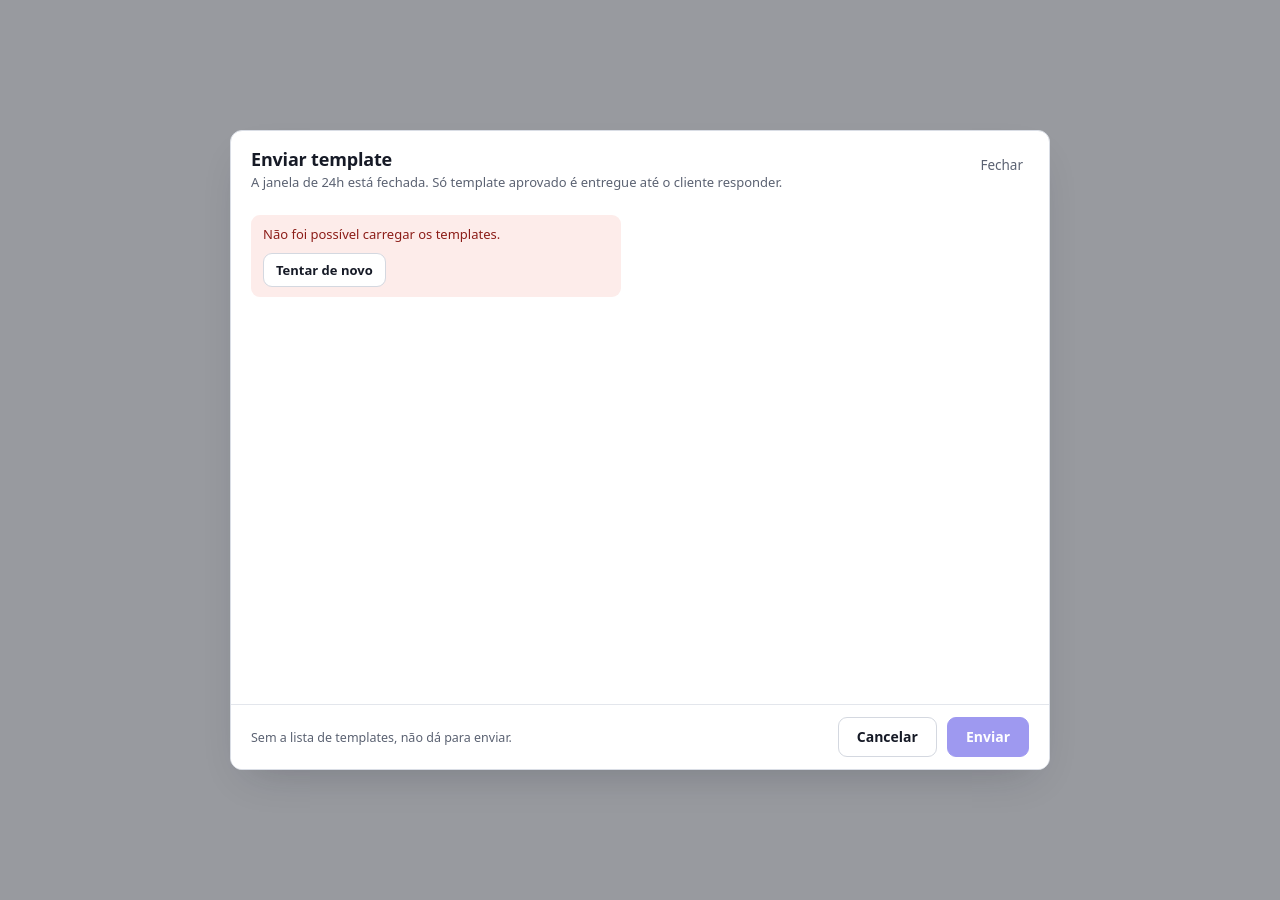
Test: SendTemplateModal › falha ao carregar os templates oferece "Tentar de novo" (A5-6)
This screenshot has width=1280, height=900.
Click the button "Tentar de novo". click: point(324, 270)
box: [263,253,386,287]
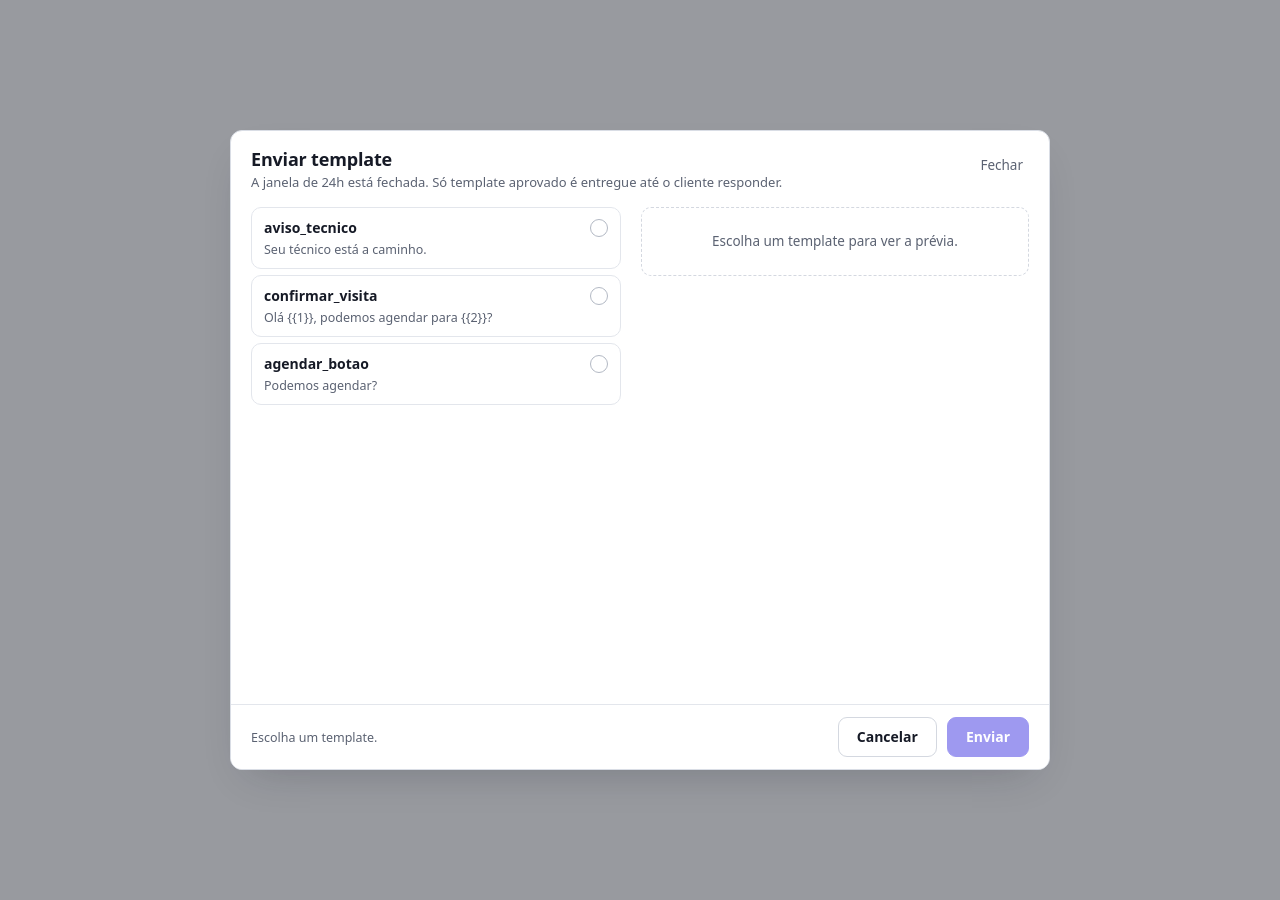
Expected: the radio button labelled "aviso_tecnico Seu técnico está a caminho." is shown, [251,207,621,269]
